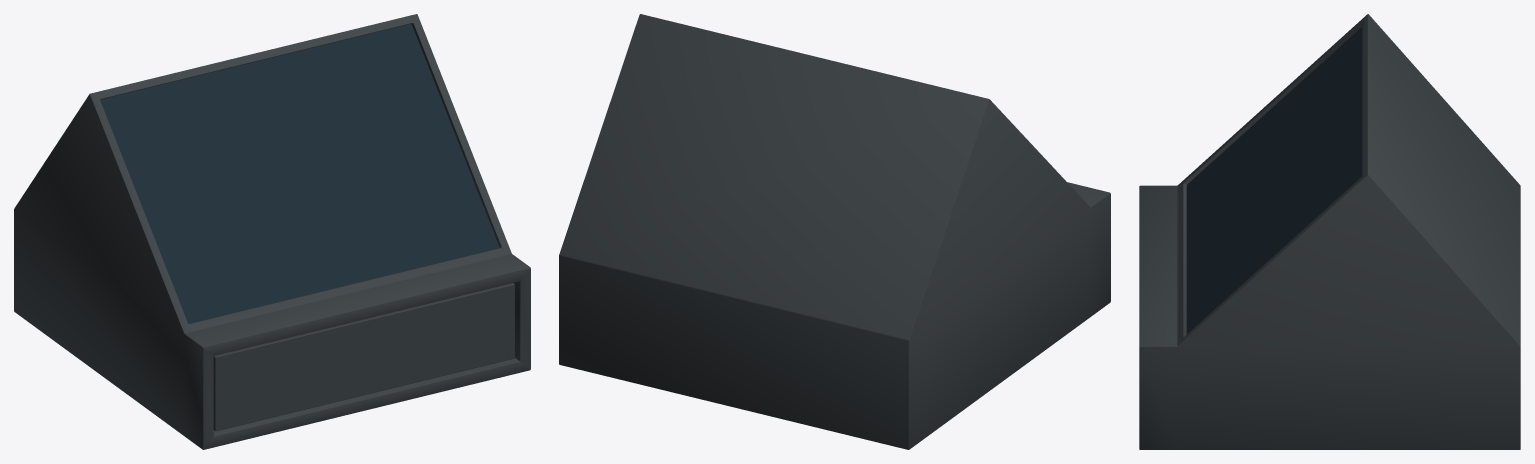
File: Cash_register.fbx
3 renders of one model, left to right at view 1: azimuth 30°, elevation 25°; view 2: azimuth 150°, elevation 25°; view 3: azimuth 270°, elevation 25°, orthographic. The views are drawn at different scales.
Visible parts, largest first — view 1: Caja registradora, Caja; view 2: Caja registradora; view 3: Caja registradora.
Part boxes in pixels (left/top/right/bottom): Caja registradora: left=14, top=14, right=530, bottom=449; Caja: left=213, top=283, right=514, bottom=431; Caja registradora: left=559, top=14, right=1110, bottom=449; Caja registradora: left=1139, top=14, right=1520, bottom=449.
Bounding box in the file's own units: 200 × 159 × 200.
